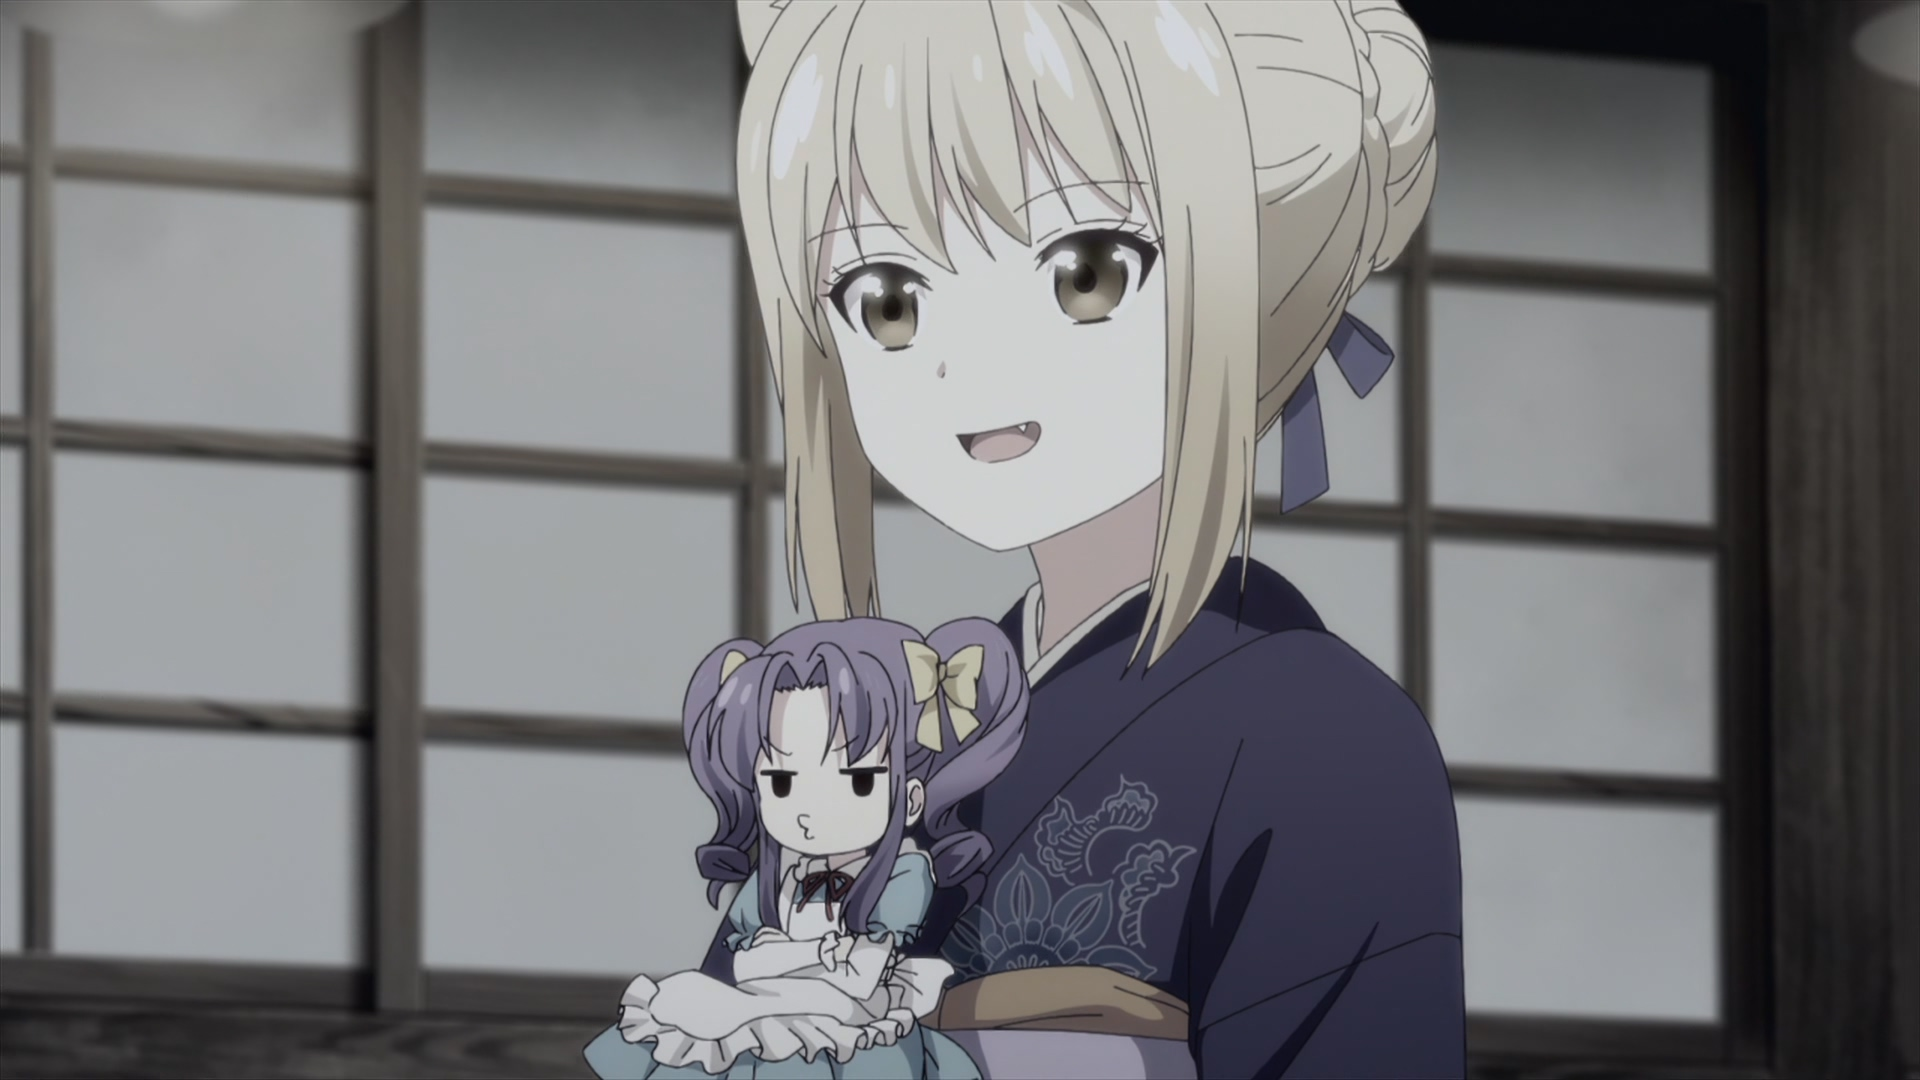桐: (731, 1, 1464, 1080)
阿菊: (585, 616, 1029, 1080)
